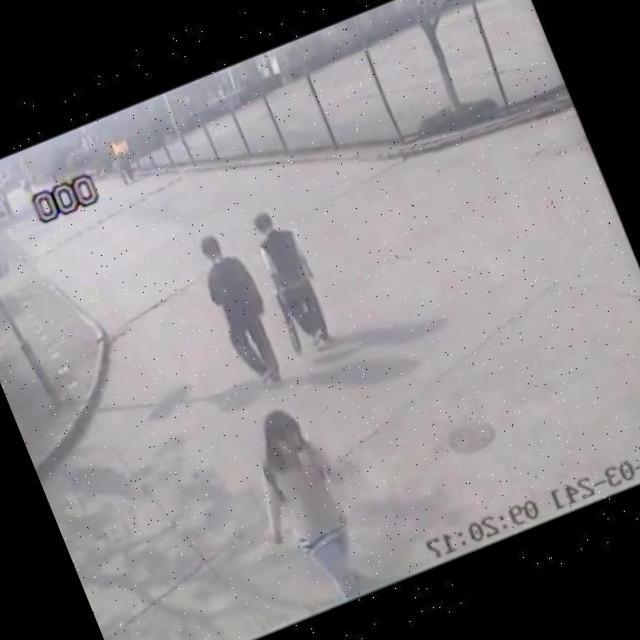person: (222, 394, 384, 620), (180, 218, 301, 403), (234, 198, 348, 366)
